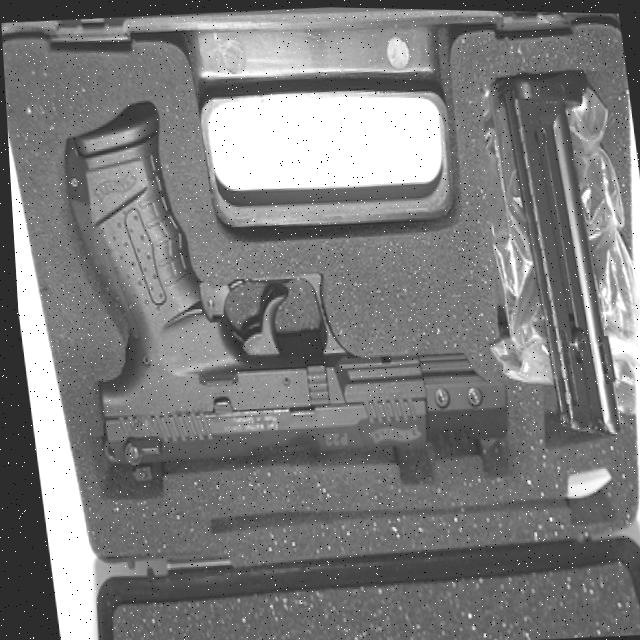pistol: (53, 75, 509, 482)
